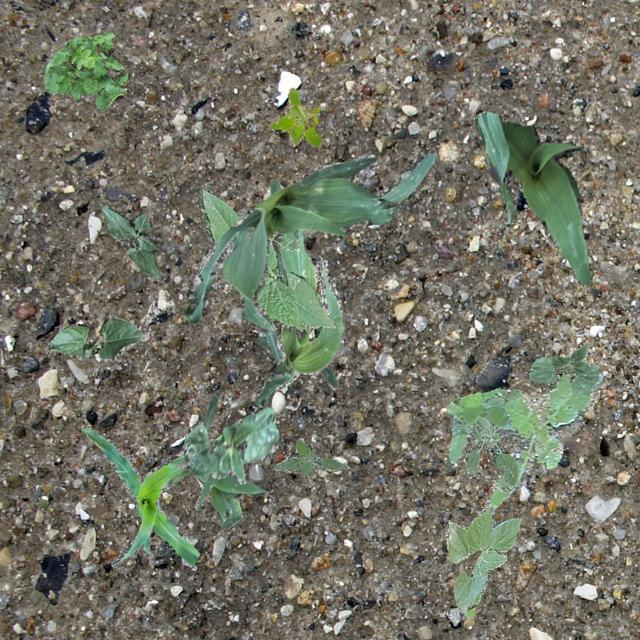crop: (184, 148, 436, 332), (80, 418, 242, 566), (252, 180, 344, 406), (474, 108, 590, 286), (198, 188, 334, 336), (165, 396, 268, 528), (255, 252, 346, 388), (444, 504, 520, 616), (182, 408, 278, 483), (48, 316, 148, 360), (100, 204, 158, 278), (528, 344, 602, 392)
weed: (444, 370, 600, 510), (43, 31, 128, 110), (464, 406, 516, 486), (268, 86, 320, 146), (272, 438, 348, 477), (270, 235, 298, 249)
